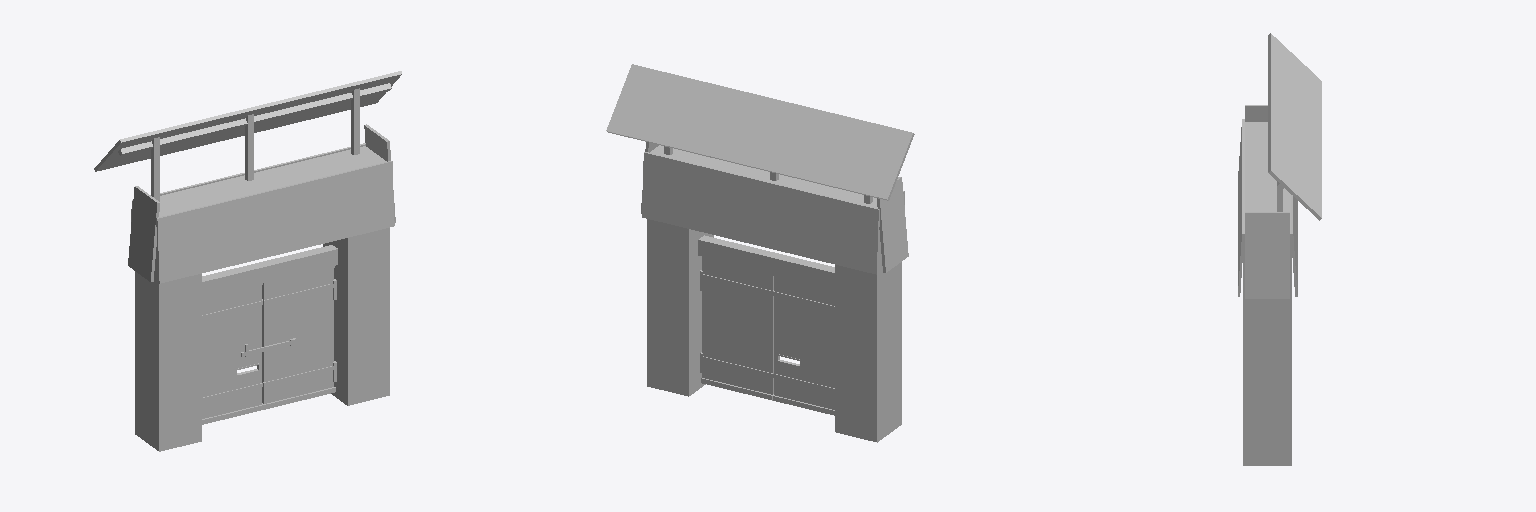
3 views of the same model, side by side, from view 1: azimuth 30°, elevation 25°; view 2: azimuth 150°, elevation 25°; view 3: azimuth 270°, elevation 25° (orthographic).
Visible parts, largest first — view 1: Stone; view 2: Stone; view 3: Stone.
Boxes of the visible parts, x1=… form: Stone: x1=94, y1=71, x2=401, y2=451; Stone: x1=606, y1=64, x2=914, y2=442; Stone: x1=1238, y1=33, x2=1321, y2=465.
Size of the model in its own units: 3.46 by 3.62 by 0.8983.